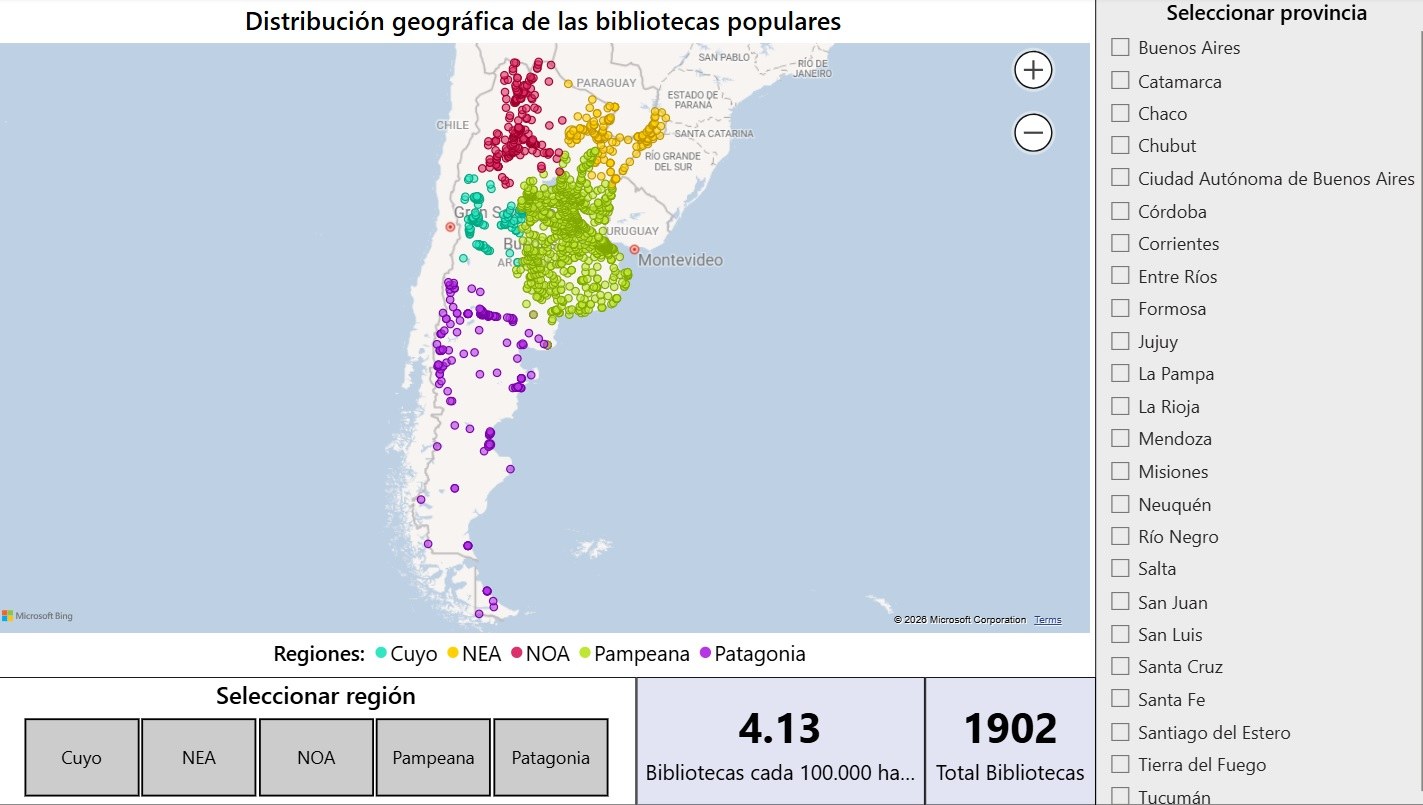

The dashboard page shown, as its layout file describes it:
{"tool":"powerbi","page":{"name":"Distribución Geográfica","canvas":[1280,720],"ordinal":3},"visuals":[{"type":"map","title":"Distribución geográfica de las bibliotecas populares","fields":{"Y":["Biblioteca.latitud"],"X":["Biblioteca.longitud"],"Size":["Medidas.Total Bibliotecas"],"Series":["Region.nombre_region"]},"box":[0,0,980.8,605.6],"z":0},{"type":"slicer","title":"Seleccionar región","fields":{"Values":["Region.nombre_region"]},"box":[0,605.6,571.9,114.6],"z":1000},{"type":"slicer","title":"Seleccionar provincia","fields":{"Values":["Provincia.nombre_provincia"]},"box":[980.8,0,299.2,720.2],"z":2000},{"type":"card","fields":{"Values":["Medidas.Total Bibliotecas"]},"box":[828.8,605.6,152,114.6],"z":3000},{"type":"card","fields":{"Values":["Medidas.Bibliotecas cada 100.000 hab"]},"box":[571.9,605.6,257,114.6],"z":4000}]}

Visuals, with their boxes in screenshot pixels (x1, y1, x2, y2), scaled from the page's 1280x720 canvas onto the 1423x805 screenshot:
"Distribución geográfica de las bibliotecas populares" map: 0/0/1090/677
"Seleccionar región" slicer: 0/677/636/804
"Seleccionar provincia" slicer: 1090/0/1422/804
card - Medidas.Total Bibliotecas: 921/677/1090/804
card - Medidas.Bibliotecas cada 100.000 hab: 636/677/922/804
